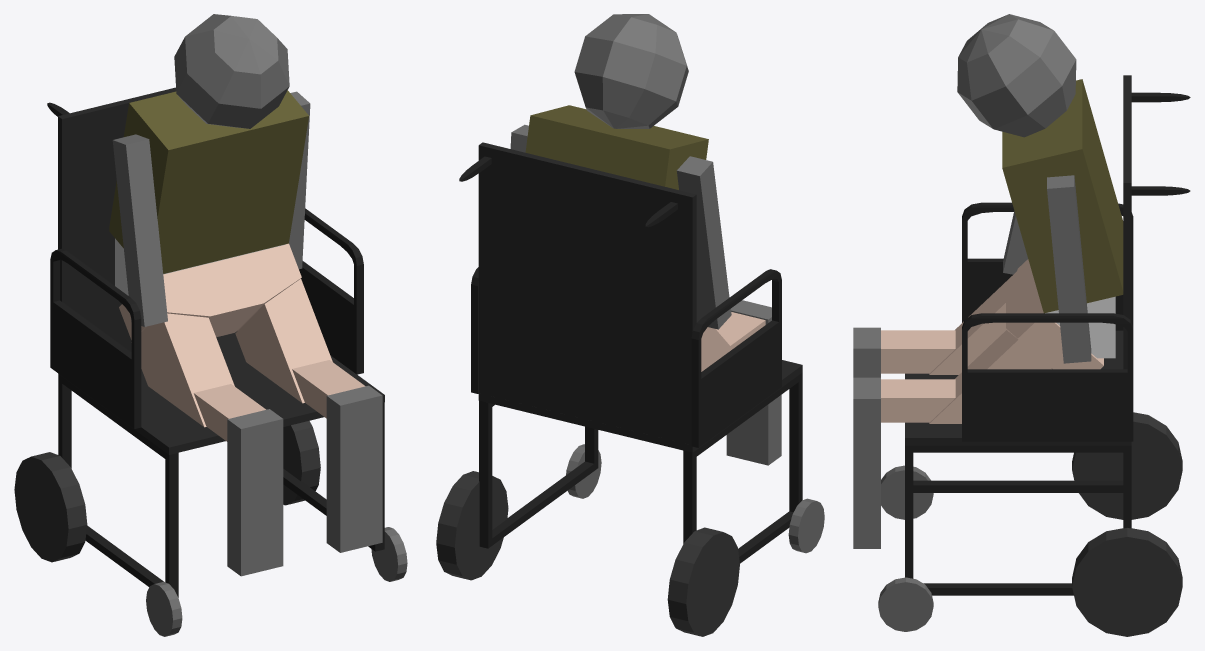
Rendered from old.glb.
3 renders of one model, left to right at view 1: azimuth 30°, elevation 25°; view 2: azimuth 150°, elevation 25°; view 3: azimuth 270°, elevation 25°, orthographic. The views are drawn at different scales.
Parts seen in each view (by area): view 1: Wheelchair, Torso.001, Head.001, LLegL, LLegR, Pelvis.001, ArmR.001, LegR.001, LegL.001, KneeL, KneeR, ArmL.001 (+1 smaller); view 2: Wheelchair, Head.001, Torso.001, ArmR.001, LLegR, KneeR, LegR.001; view 3: Wheelchair, Torso.001, Head.001, ArmL.001, LLegL, Pelvis.001, KneeL, KneeR, LegL.001, LegR.001, LLegR, Butt (+1 smaller).
Part boxes in pixels (x1=…): Wheelchair: x1=14, y1=87, x2=407, y2=636; Torso.001: x1=109, y1=90, x2=308, y2=273; Head.001: x1=174, y1=14, x2=289, y2=128; LLegL: x1=326, y1=385, x2=382, y2=552; LLegR: x1=227, y1=409, x2=283, y2=576; Pelvis.001: x1=119, y1=243, x2=301, y2=339; ArmR.001: x1=112, y1=134, x2=167, y2=326; LegR.001: x1=131, y1=313, x2=234, y2=427; LegL.001: x1=235, y1=279, x2=332, y2=403; KneeL: x1=292, y1=360, x2=365, y2=418; KneeR: x1=193, y1=384, x2=265, y2=441; ArmL.001: x1=289, y1=91, x2=310, y2=269; Wheelchair: x1=436, y1=142, x2=824, y2=636; Head.001: x1=574, y1=14, x2=688, y2=128; Torso.001: x1=525, y1=105, x2=708, y2=189; ArmR.001: x1=676, y1=156, x2=731, y2=329; LLegR: x1=726, y1=300, x2=781, y2=465; KneeR: x1=716, y1=312, x2=765, y2=348; LegR.001: x1=701, y1=327, x2=732, y2=371; Wheelchair: x1=878, y1=75, x2=1190, y2=636; Torso.001: x1=1002, y1=79, x2=1123, y2=313; Head.001: x1=957, y1=14, x2=1076, y2=137; ArmL.001: x1=1047, y1=175, x2=1091, y2=363; LLegL: x1=853, y1=377, x2=880, y2=548; Pelvis.001: x1=1006, y1=259, x2=1103, y2=369; KneeL: x1=881, y1=379, x2=955, y2=422; KneeR: x1=881, y1=330, x2=955, y2=373; LegL.001: x1=929, y1=330, x2=1051, y2=423; LegR.001: x1=929, y1=272, x2=1050, y2=374; LLegR: x1=853, y1=327, x2=880, y2=377; Butt: x1=1045, y1=296, x2=1115, y2=358.
Size of the model in its own units: 1.08 by 2.24 by 1.22.
